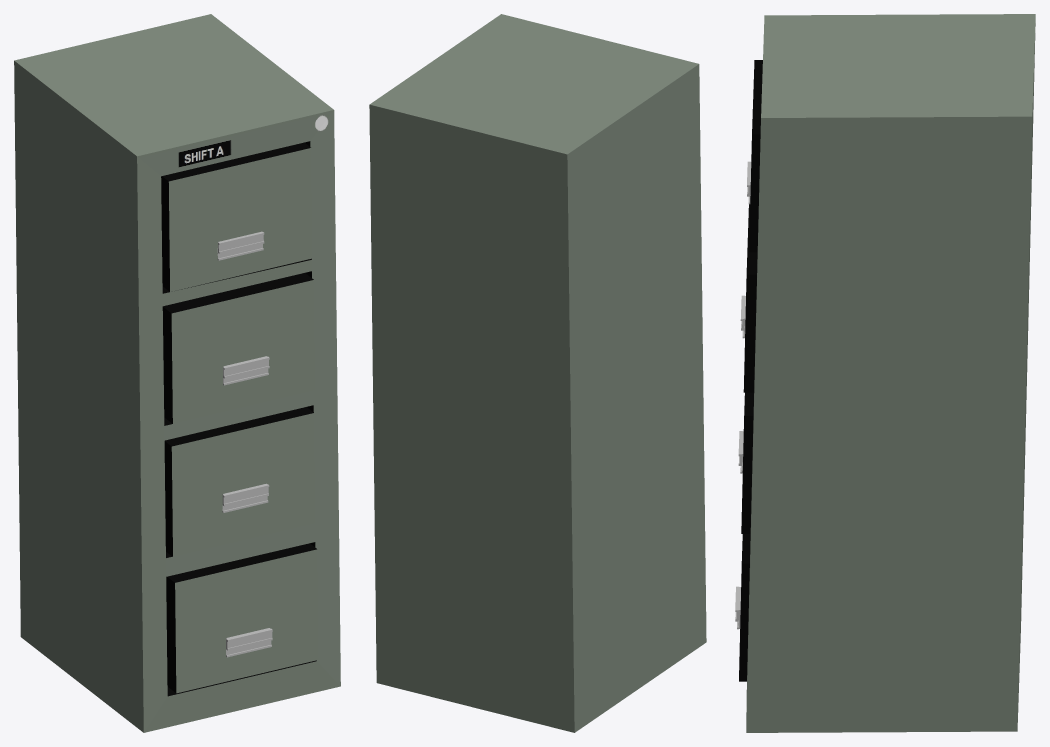
The model's file is cabinet3.fbx.
3 views of the same model, side by side, from view 1: azimuth 30°, elevation 25°; view 2: azimuth 150°, elevation 25°; view 3: azimuth 270°, elevation 25° (orthographic). The views are drawn at different scales.
Parts seen in each view (by area): view 1: cabinet01; view 2: cabinet01; view 3: cabinet01.
Part boxes in pixels (bbox=[...]): cabinet01: bbox=[14, 14, 340, 732]; cabinet01: bbox=[369, 14, 706, 732]; cabinet01: bbox=[735, 14, 1035, 732].
Bounding box in the file's own units: 47.78 × 132 × 58.16.
